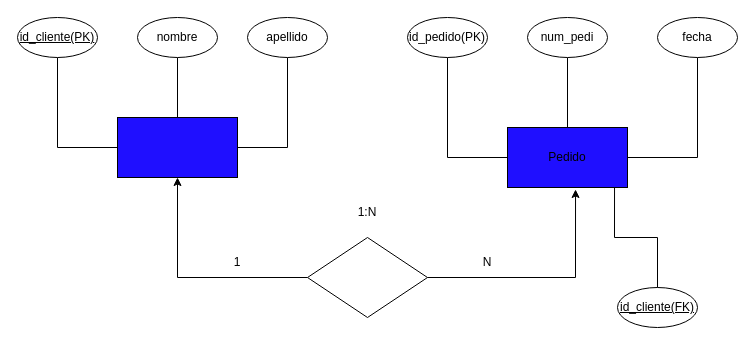
This 755x345 diagram has some shape labels left out. Here are the shapes that lost their labels. From the top down, the box of each, then its label:
(116, 116, 238, 178): Cliente
(306, 236, 428, 318): realiza
